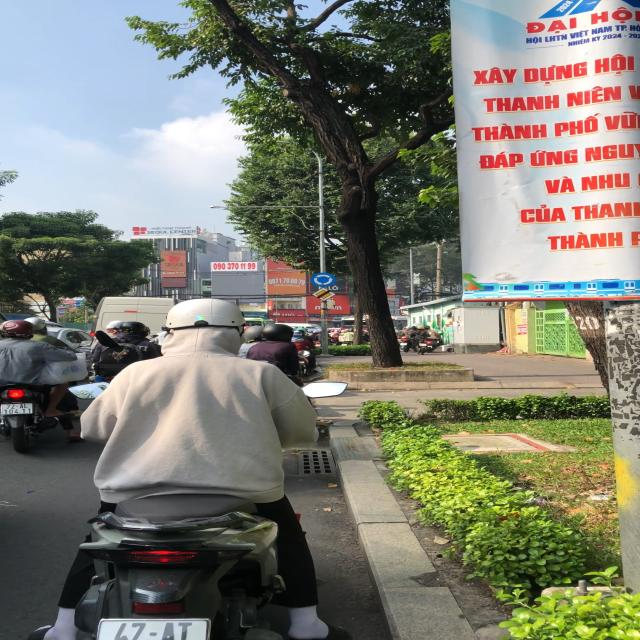Bien bao noi giao nhau chay theo vong xuyen: (308, 272, 339, 289)
